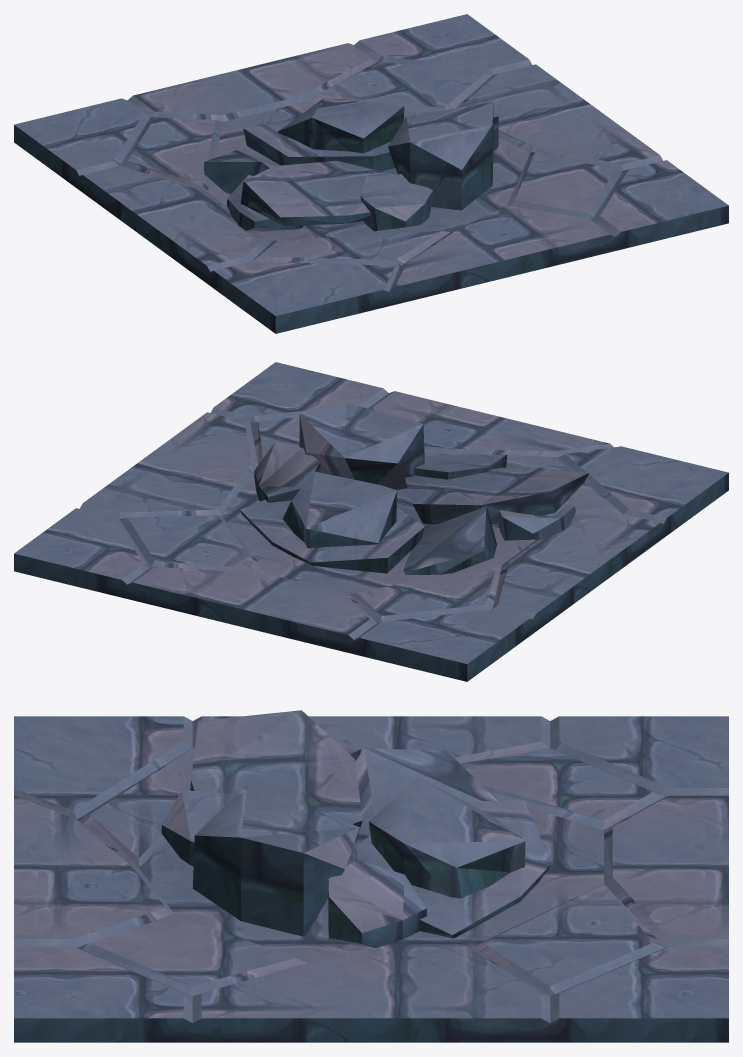
File: floor_tile_large_rocks.gltf
3 renders of one model, top to bottom at view 1: azimuth 30°, elevation 25°; view 2: azimuth 150°, elevation 25°; view 3: azimuth 270°, elevation 25°, orthographic. The views are drawn at different scales.
Visible parts, largest first — view 1: floor_tile_large_rocks; view 2: floor_tile_large_rocks; view 3: floor_tile_large_rocks.
Part boxes in pixels (x1,y1,x2,y2): floor_tile_large_rocks: (14, 14, 728, 333); floor_tile_large_rocks: (14, 362, 728, 681); floor_tile_large_rocks: (14, 710, 728, 1042).
Bounding box in the file's own units: 4 × 0.6362 × 4.
2 materials, 2 textured.
